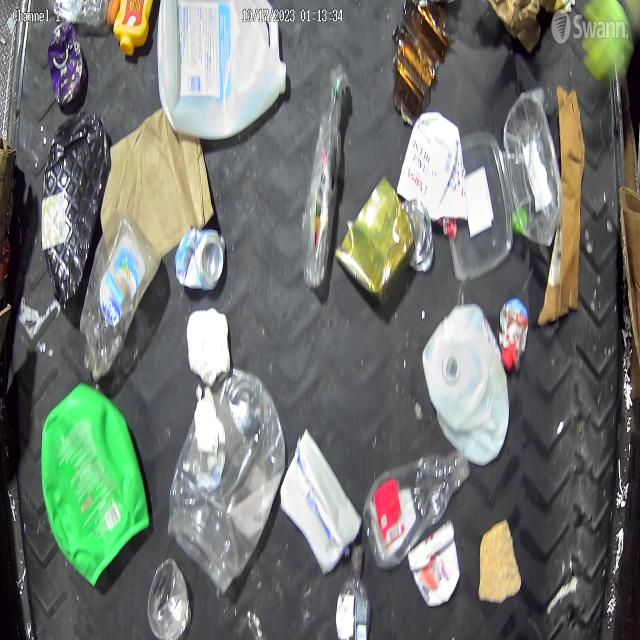can: (336, 177, 411, 301), (174, 229, 224, 292), (48, 20, 84, 106), (402, 196, 434, 273)
milk_jug: (158, 0, 286, 138), (424, 305, 509, 465)
non_white_jug: (43, 386, 152, 584)
plastic_bottle: (168, 373, 286, 593), (360, 452, 466, 566), (81, 217, 152, 383), (301, 64, 346, 286), (49, 0, 120, 28)
